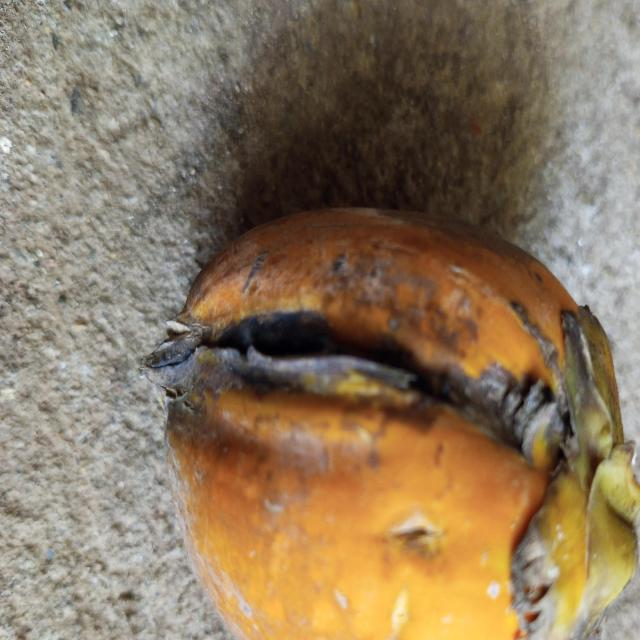damaged: (145, 209, 640, 640)
